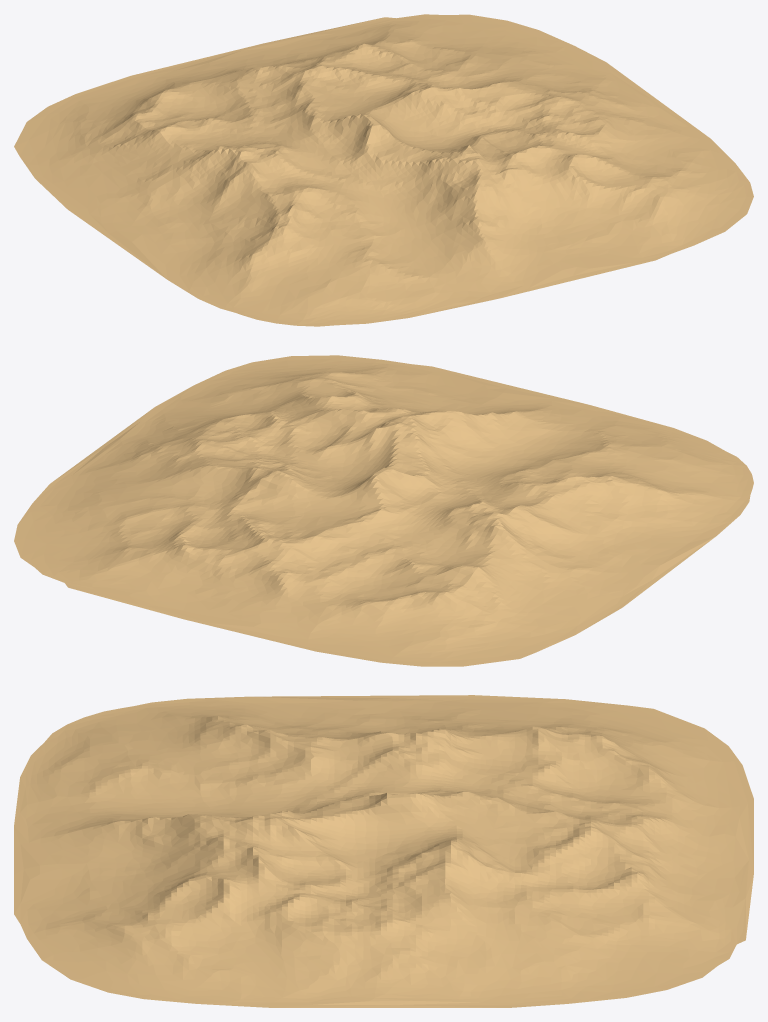
File: MT_Island_H_c_08_LOD.fbx
3 renders of one model, top to bottom at view 1: azimuth 30°, elevation 25°; view 2: azimuth 150°, elevation 25°; view 3: azimuth 270°, elevation 25°, orthographic. The views are drawn at different scales.
Visible parts, largest first — view 1: MT_Island_H_c_08_LOD0; view 2: MT_Island_H_c_08_LOD0; view 3: MT_Island_H_c_08_LOD0.
Part boxes in pixels (x1=…): MT_Island_H_c_08_LOD0: x1=14, y1=14, x2=753, y2=326; MT_Island_H_c_08_LOD0: x1=14, y1=355, x2=753, y2=666; MT_Island_H_c_08_LOD0: x1=14, y1=695, x2=753, y2=1007.
Size of what is drawn, in the model's own units: 50000 by 4042 by 50000.
